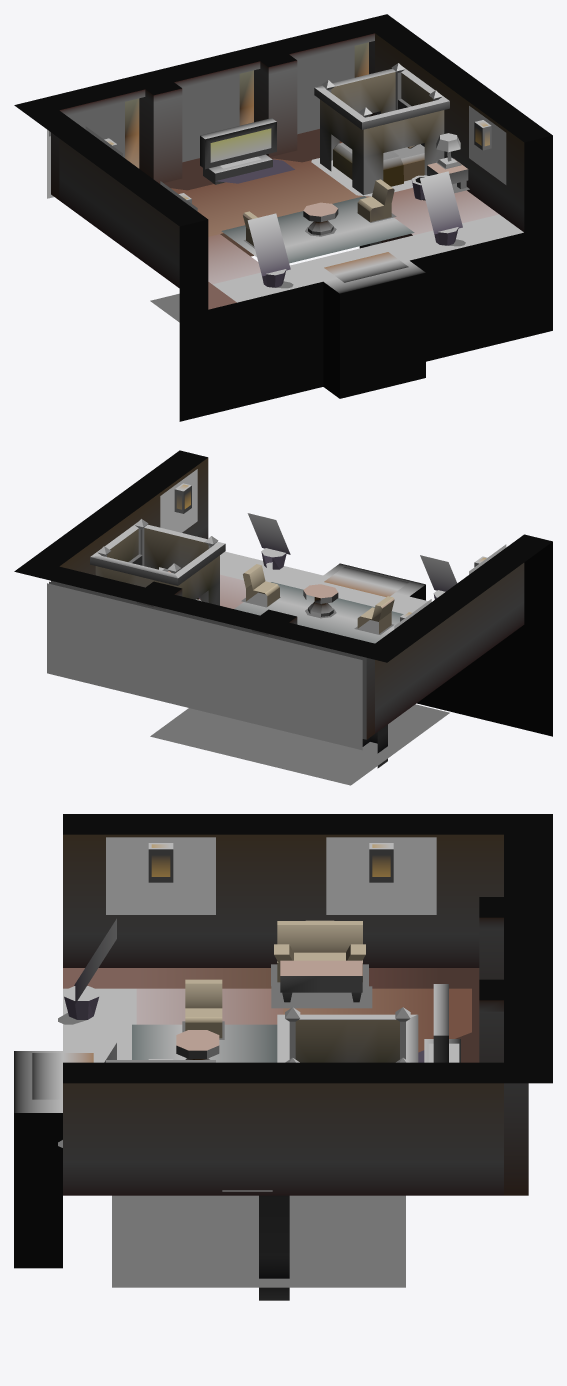
Rendered from humilau_house_7.obj.
3 renders of one model, top to bottom at view 1: azimuth 30°, elevation 25°; view 2: azimuth 150°, elevation 25°; view 3: azimuth 270°, elevation 25°, orthographic. The views are drawn at different scales.
Bounding box in the file's own units: 270 × 135 × 229.
